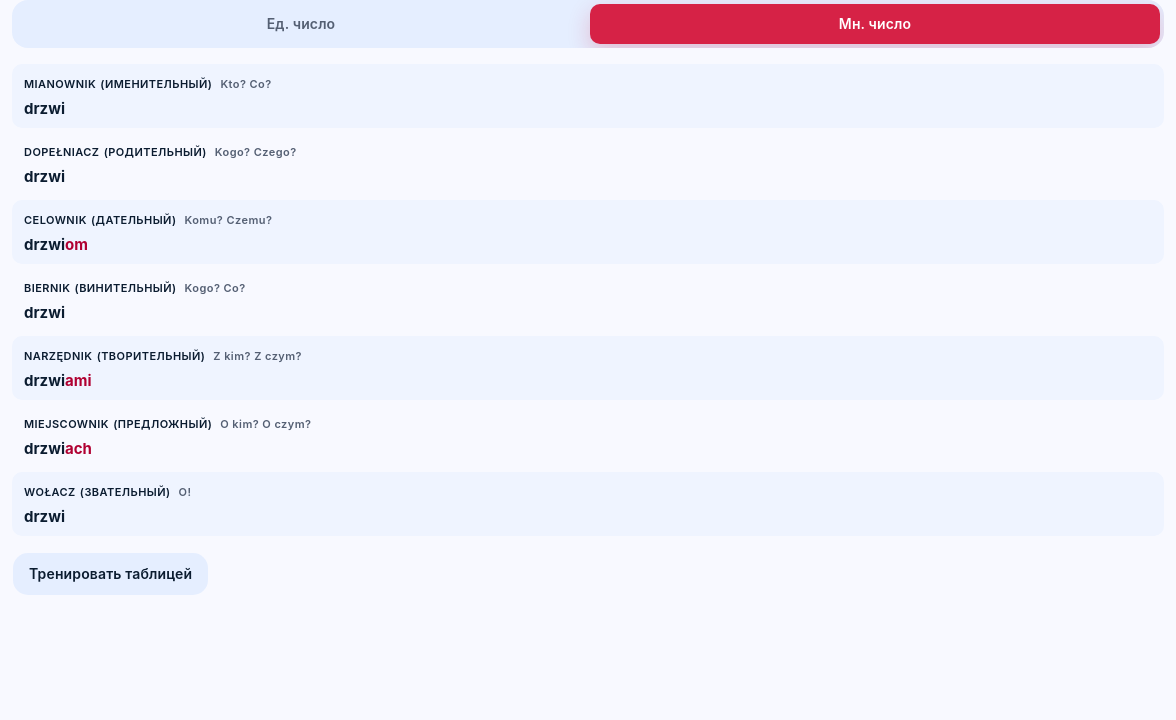
Test case: drzwi — pluralia tantum: defaults to "Мн. число", singular has no forms at all › switching to "Ед. число" shows every case as an empty dash, never a button
Click the button "Ед. число" at (301, 24), box [16,4,586,44]
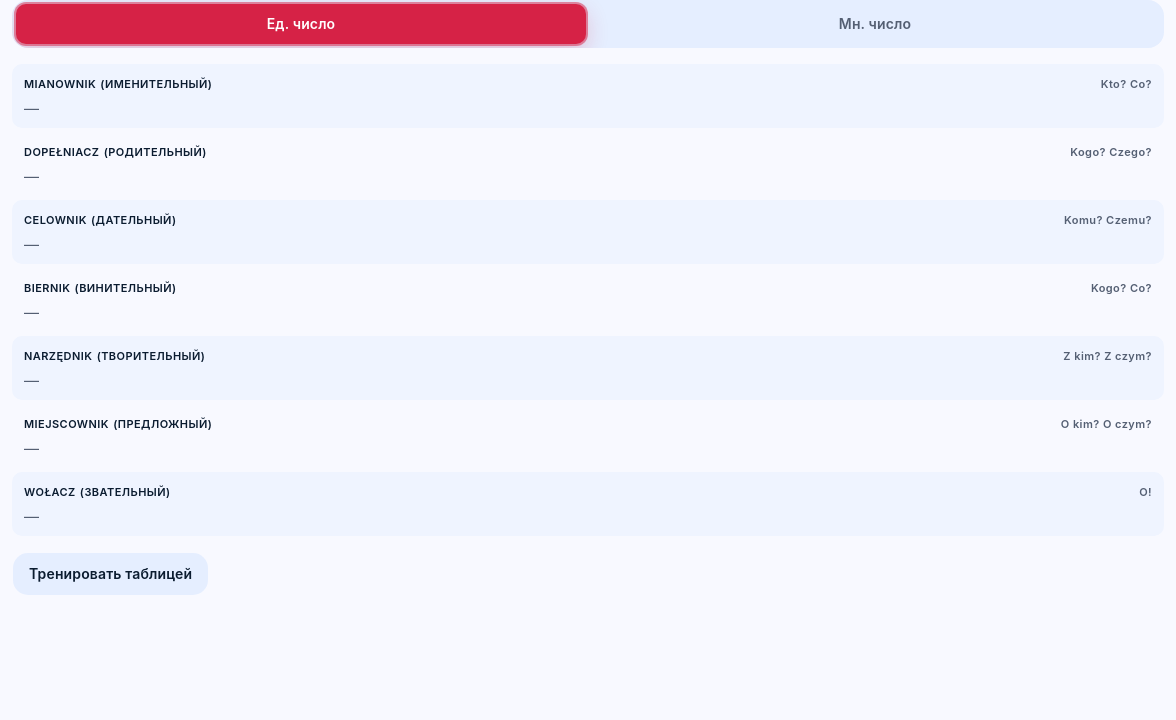
Check: the number of list items is 7
Check: the list item "Mianownik (Именительный) Kto? Co? —" is shown, box [12,64,1164,128]
Check: the button "Mianownik (Именительный) Kto? Co? drzwi" is gone
